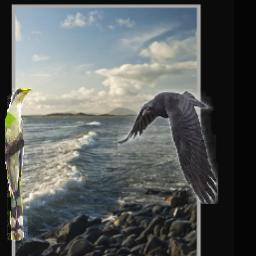Crow: (117, 89, 217, 204)
Cuckoo: (5, 89, 33, 242)
